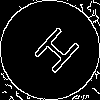H: (25, 25, 82, 83)
